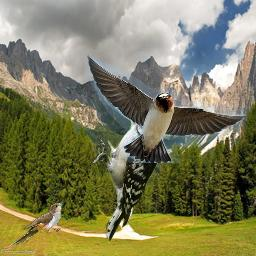Cuckoo: (9, 201, 65, 246)
Swallow: (85, 53, 246, 163)
Woodpecker: (93, 106, 166, 241)
